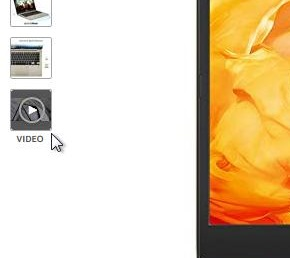cursor: (47, 130, 65, 155)
